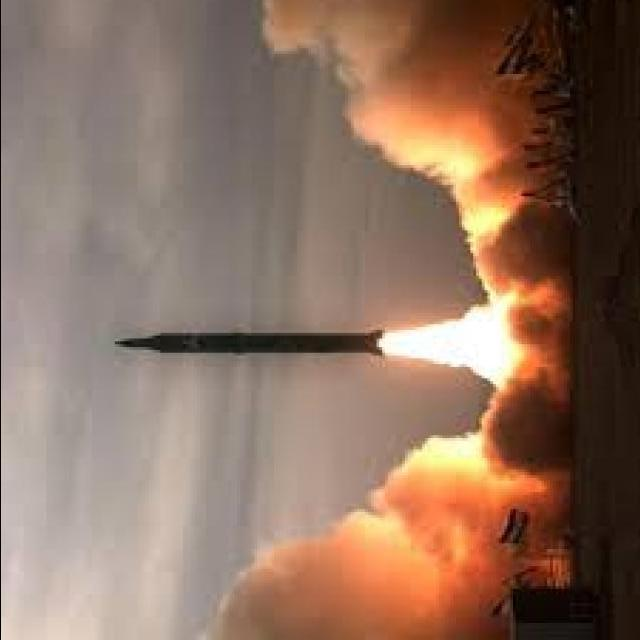missile: (118, 328, 384, 365)
